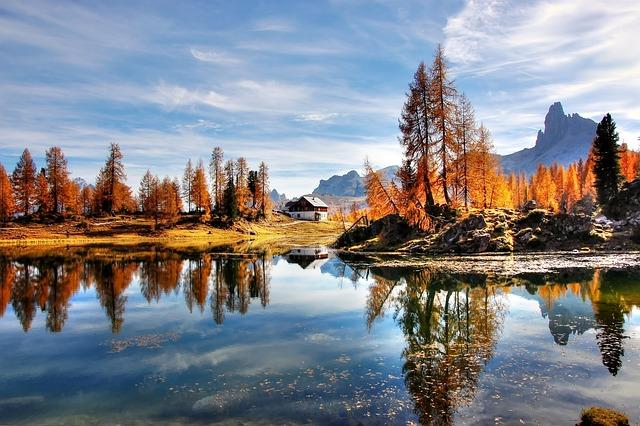Non_Gorille: (13, 20, 620, 394)
